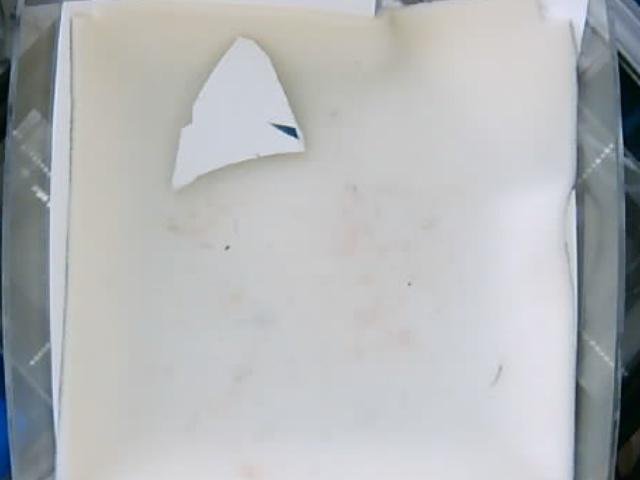China: (164, 36, 306, 189)
